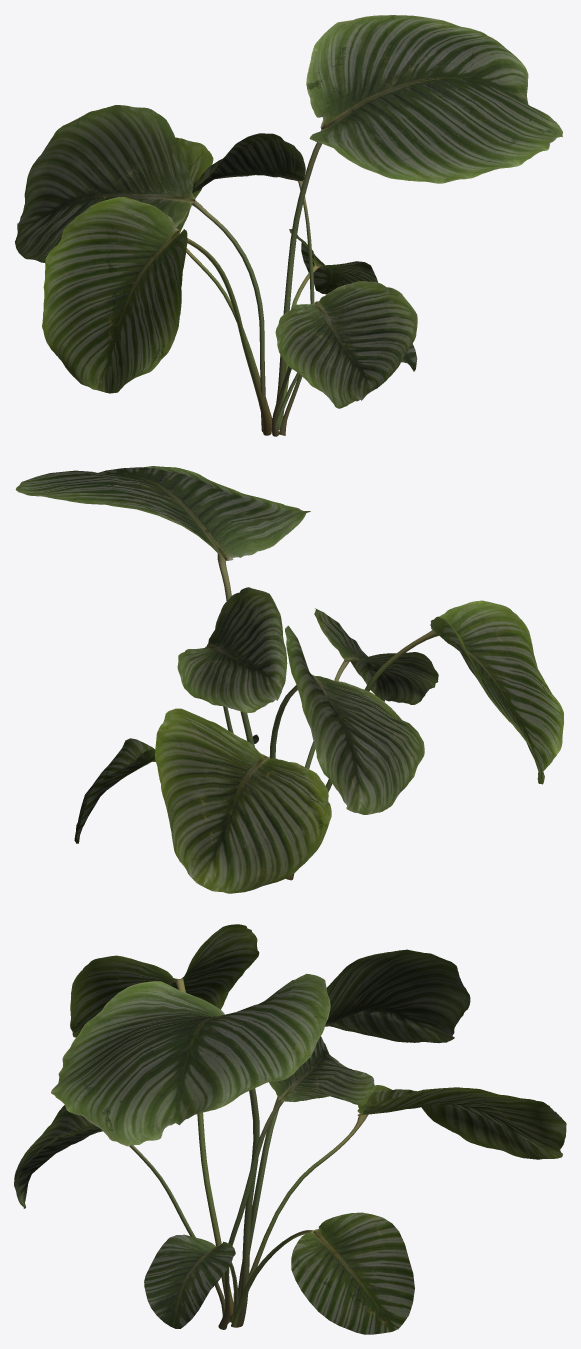
The picture shows the model from 3 angles, top to bottom: view 1: azimuth 30°, elevation 25°; view 2: azimuth 150°, elevation 25°; view 3: azimuth 270°, elevation 25°; orthographic projection. The views are drawn at different scales.
Visible parts, largest first — view 1: calathea_orbifolia_01_a; view 2: calathea_orbifolia_01_a; view 3: calathea_orbifolia_01_a.
Part boxes in pixels (box(x1,y1,x2,y2)): calathea_orbifolia_01_a: box(15, 15, 562, 436); calathea_orbifolia_01_a: box(15, 466, 563, 893); calathea_orbifolia_01_a: box(14, 924, 566, 1334).
Bounding box in the file's own units: 0.6006 × 0.4243 × 0.5256.
Materials: 1 (1 with a texture image).
